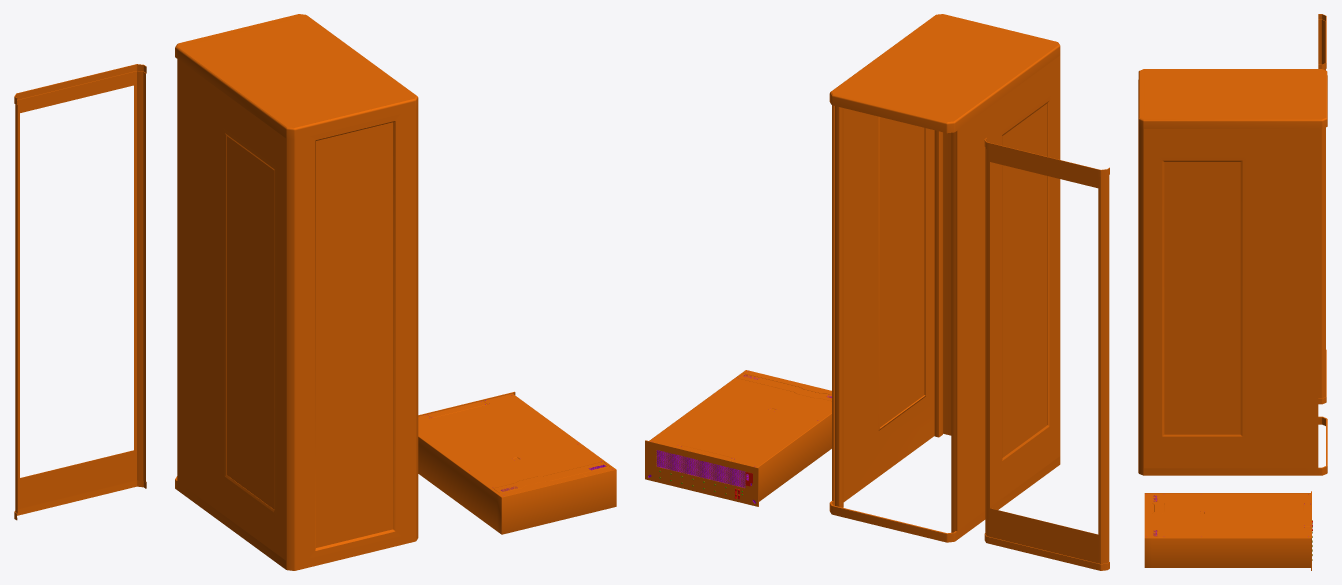
File: SC_High_EXP.FBX
3 views of the same model, side by side, from view 1: azimuth 30°, elevation 25°; view 2: azimuth 150°, elevation 25°; view 3: azimuth 270°, elevation 25° (orthographic). The views are drawn at different scales.
Parts seen in each view (by area): view 1: Server_Rack_High_save; view 2: Server_Rack_High_save; view 3: Server_Rack_High_save.
Part boxes in pixels (box(x1,y1,x2,y2)): Server_Rack_High_save: box(14, 14, 616, 570); Server_Rack_High_save: box(645, 14, 1109, 570); Server_Rack_High_save: box(1138, 14, 1327, 570).
Bounding box in the file's own units: 85.49 × 76.5 × 35.23.
